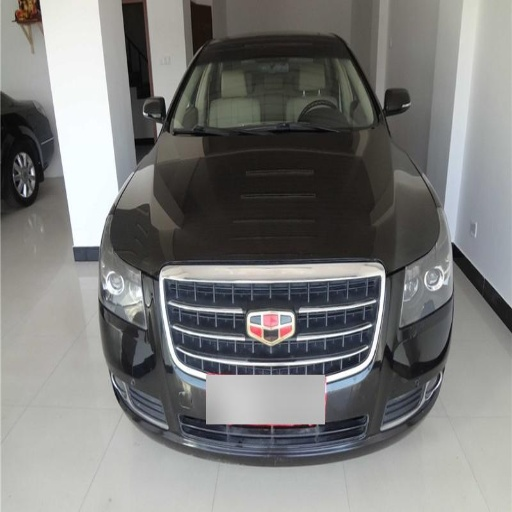front_bumper: (99, 267, 451, 468)
front_right_light: (100, 248, 147, 328)
hood: (111, 129, 432, 281)
